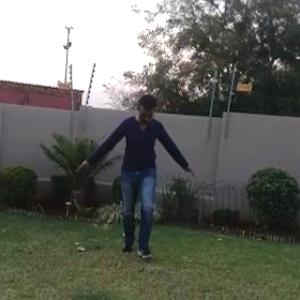land: (82, 84, 215, 284)
